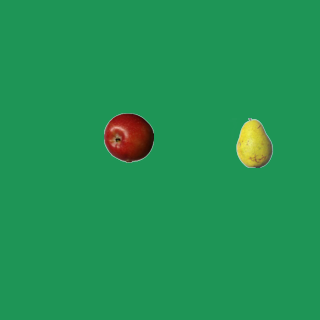Apple Braeburn: (103, 112, 153, 162)
Pear Monster: (229, 117, 279, 167)
